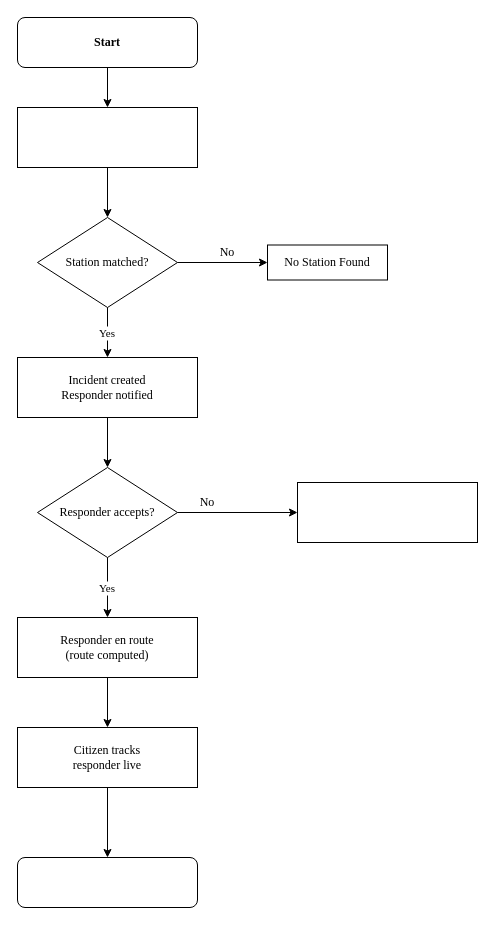
This 495x925 diagram has some shape labels left out. The box of each missing label's shape, as (x1, y1, x2, y2) in pixels:
Await next available responder: (296, 482, 478, 542)
Citizen submits SOS (category + GPS location): (16, 106, 198, 168)
End: (16, 856, 198, 908)
